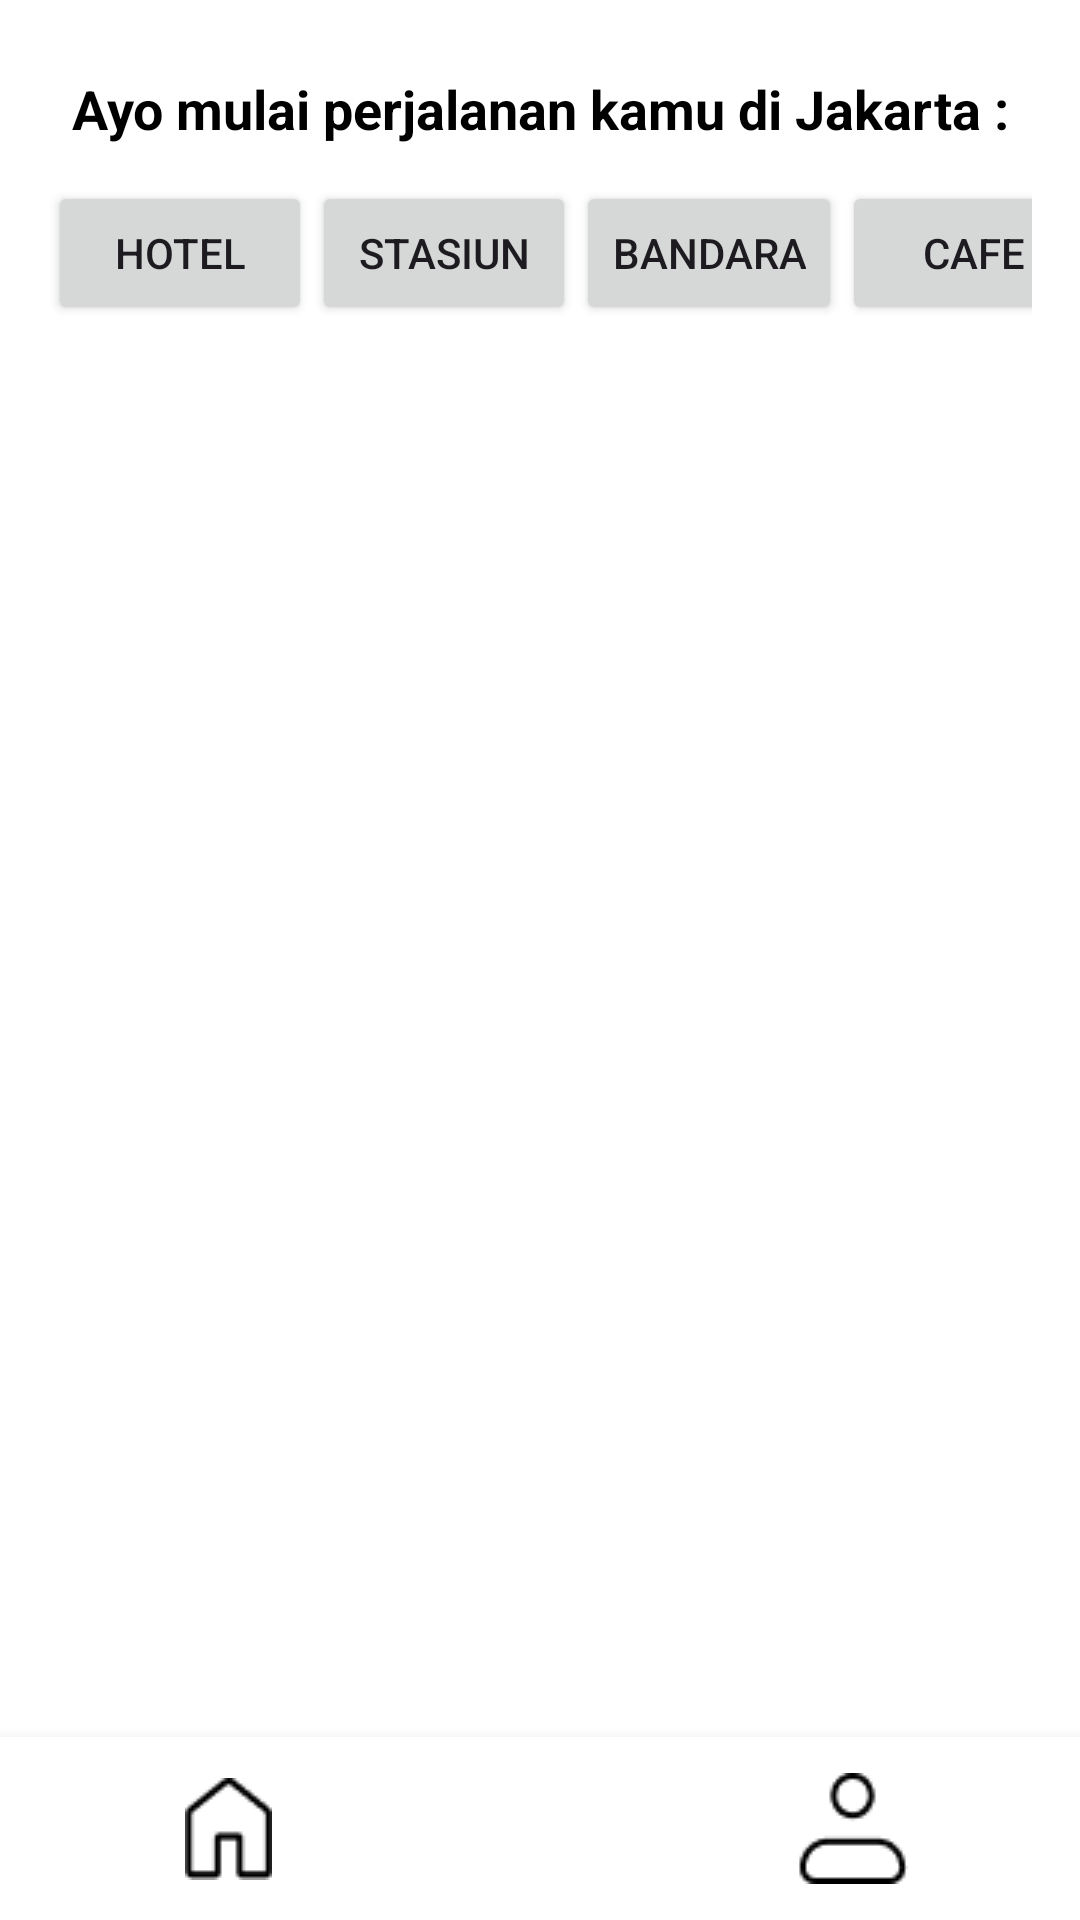

Locate icon controls on the screen. Image size 1080x1920, boxes as (x1, y1, x2, y2).
Home: (185, 1778, 272, 1880)
Profile: (799, 1773, 908, 1884)
